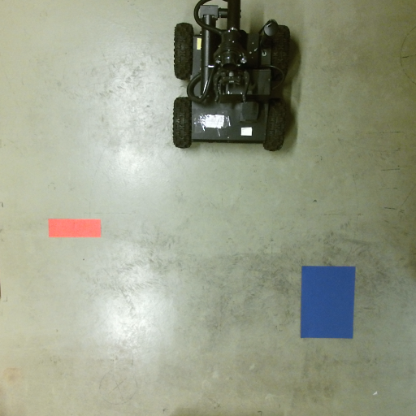Blue: (300, 265, 355, 340)
Jaguar: (172, 0, 289, 153)
Red: (45, 216, 103, 240)
